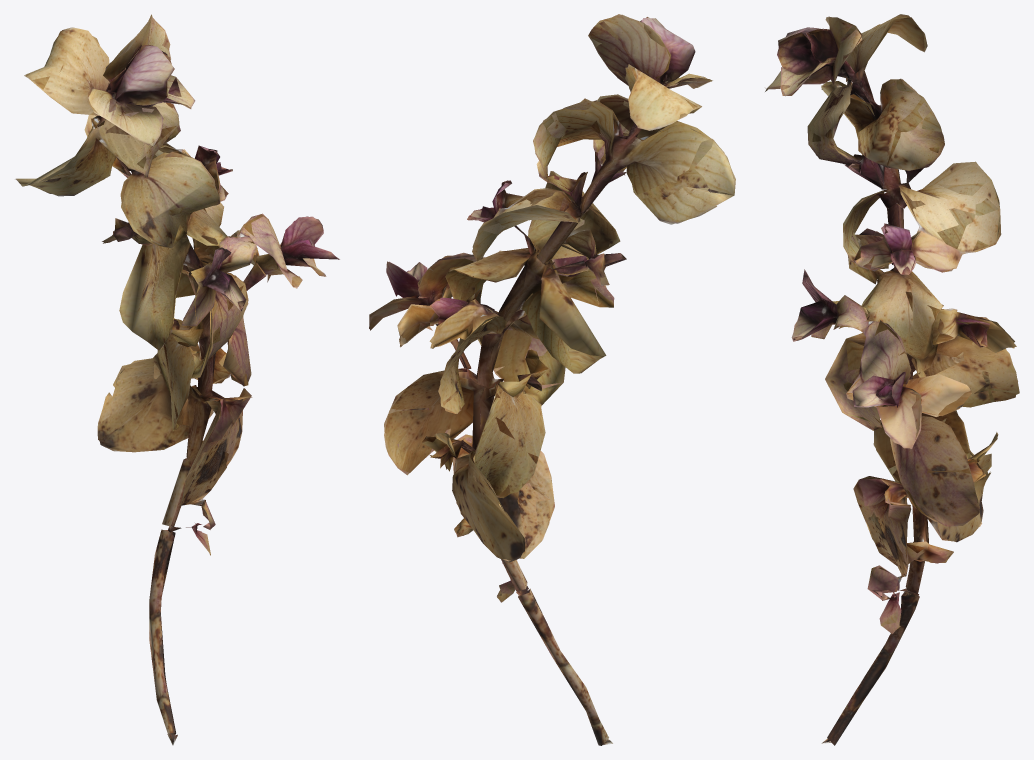
The model's file is dried_flower.glb.
3 views of the same model, side by side, from view 1: azimuth 30°, elevation 25°; view 2: azimuth 150°, elevation 25°; view 3: azimuth 270°, elevation 25° (orthographic). The views are drawn at different scales.
Parts seen in each view (by area): view 1: Object_2; view 2: Object_2; view 3: Object_2.
Part boxes in pixels (<box>): Object_2: <box>15,14,339,745</box>; Object_2: <box>369,14,735,745</box>; Object_2: <box>765,14,1019,745</box>.
Size of the model in its own units: 0.0349 by 0.0736 by 0.0237.
Materials: 1 (1 with a texture image).
